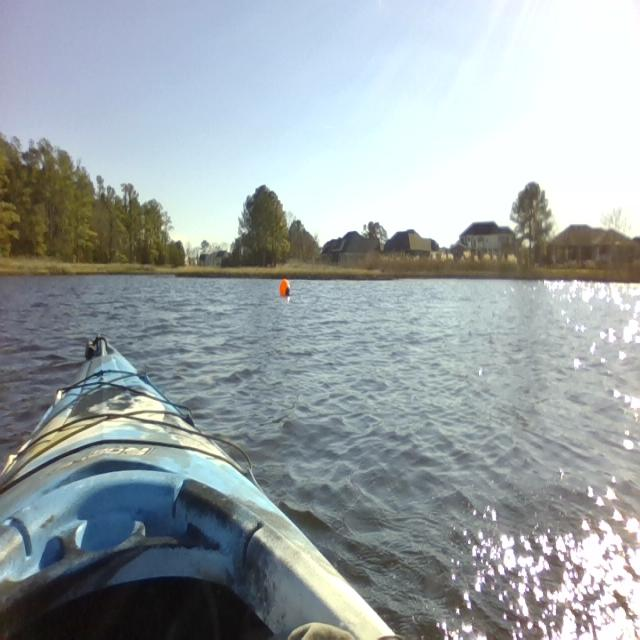Buoy: (275, 272, 297, 306)
